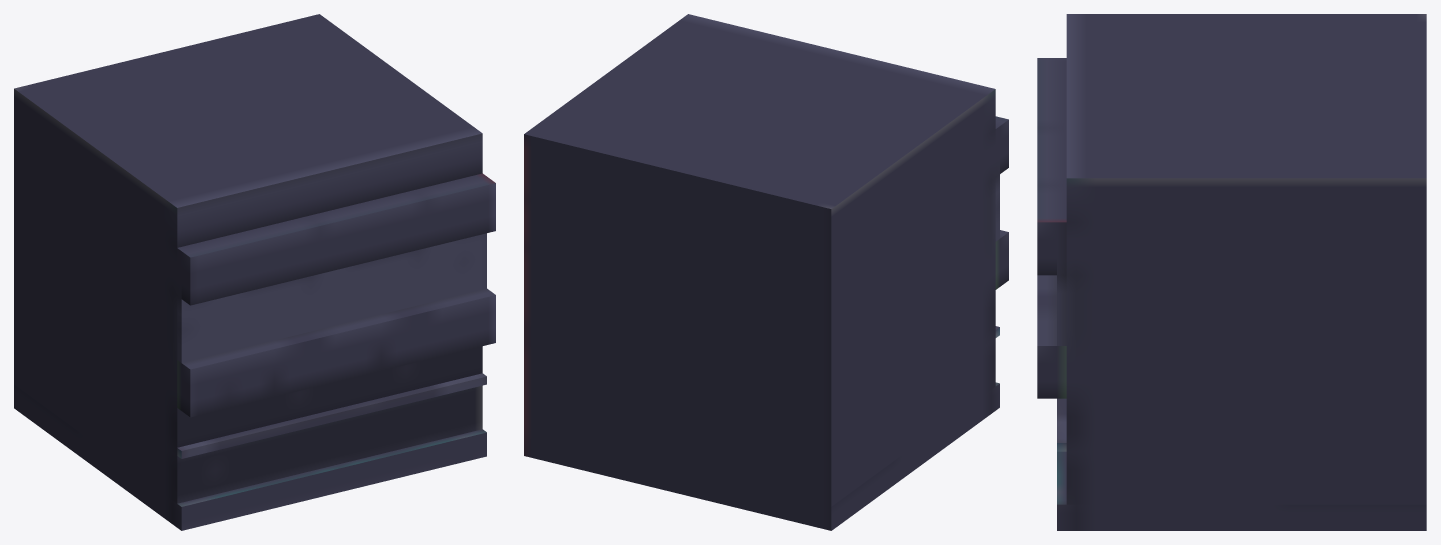
Rendered from TrimPiece_D_00.fbx.
3 views of the same model, side by side, from view 1: azimuth 30°, elevation 25°; view 2: azimuth 150°, elevation 25°; view 3: azimuth 270°, elevation 25° (orthographic). The views are drawn at different scales.
Visible parts, largest first — view 1: TrimPiece_D_00; view 2: TrimPiece_D_00; view 3: TrimPiece_D_00.
Part boxes in pixels (x1,y1,x2,y2): TrimPiece_D_00: (14, 14, 495, 530); TrimPiece_D_00: (524, 14, 1008, 530); TrimPiece_D_00: (1037, 14, 1426, 530).
Size of the model in its own units: 200 by 200 by 200.
